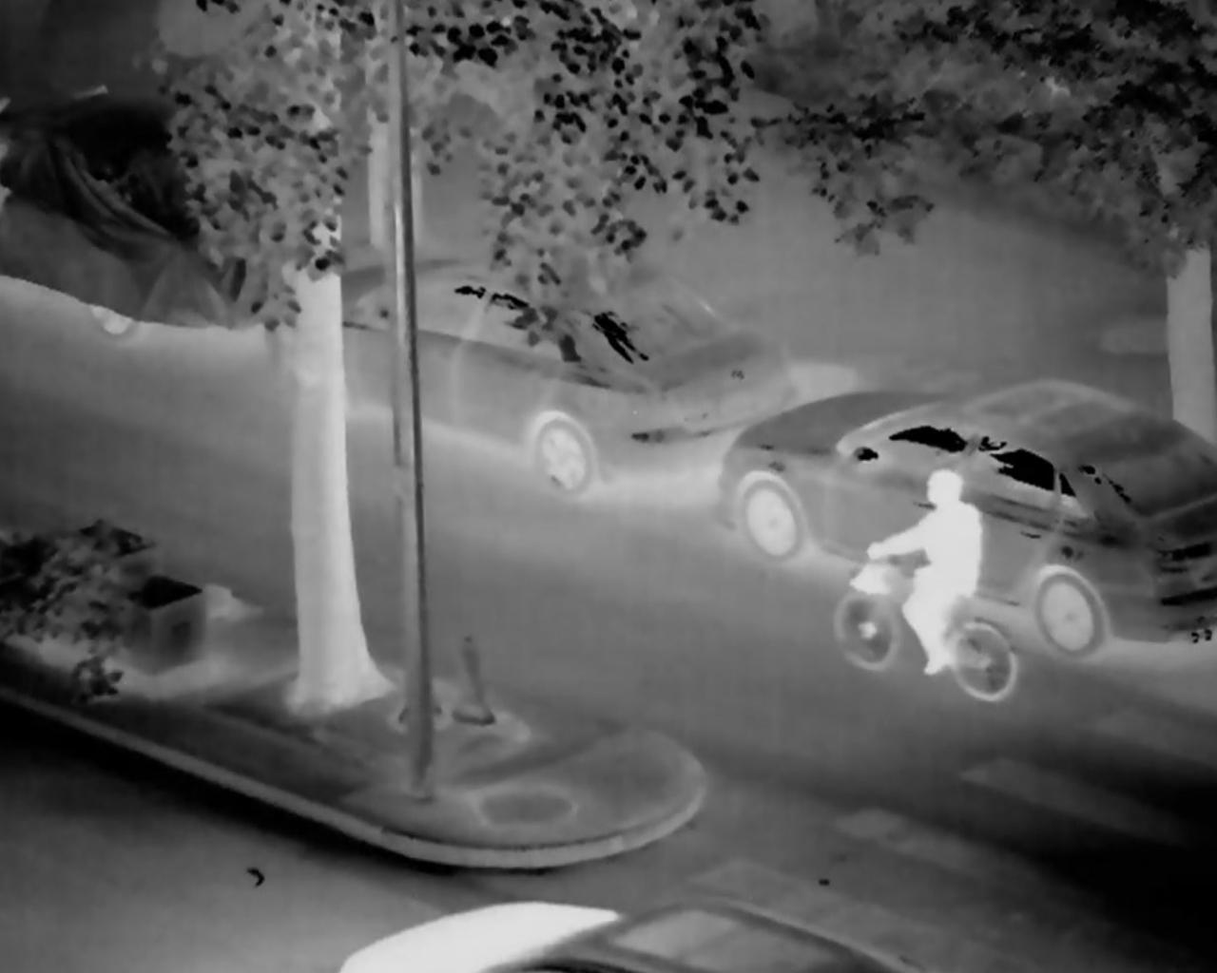person: (858, 470, 989, 706)
